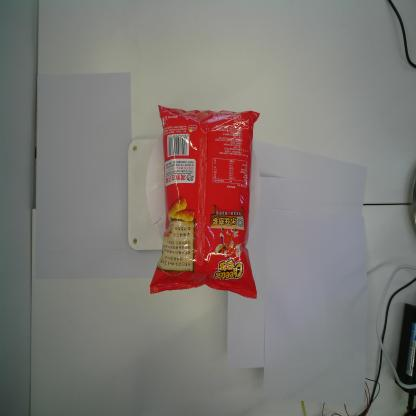Puffed Food: (150, 104, 259, 302)
